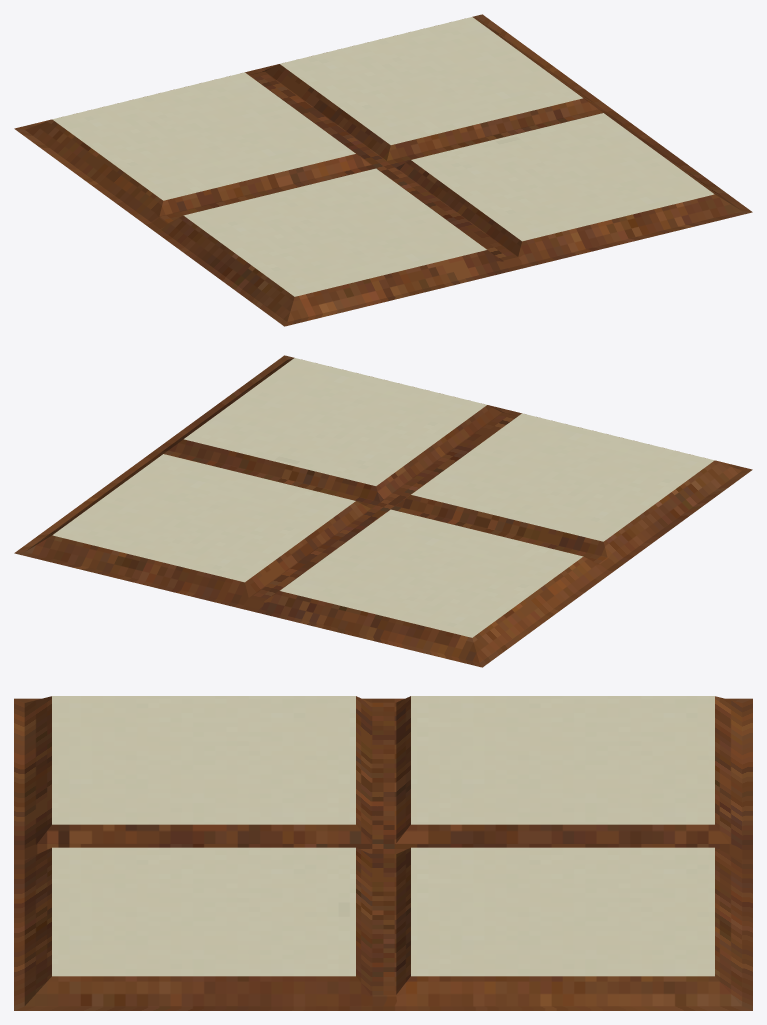
The model's file is Ceiling.glb.
3 renders of one model, top to bottom at view 1: azimuth 30°, elevation 25°; view 2: azimuth 150°, elevation 25°; view 3: azimuth 270°, elevation 25°, orthographic. The views are drawn at different scales.
Visible parts, largest first — view 1: Ceiling; view 2: Ceiling; view 3: Ceiling.
Boxes of the visible parts, x1=… form: Ceiling: x1=14, y1=14, x2=752, y2=326; Ceiling: x1=14, y1=355, x2=752, y2=667; Ceiling: x1=14, y1=696, x2=752, y2=1010.
Bounding box in the file's own units: 3 × 0.0832 × 3.
Materials: 2 (2 with a texture image).
